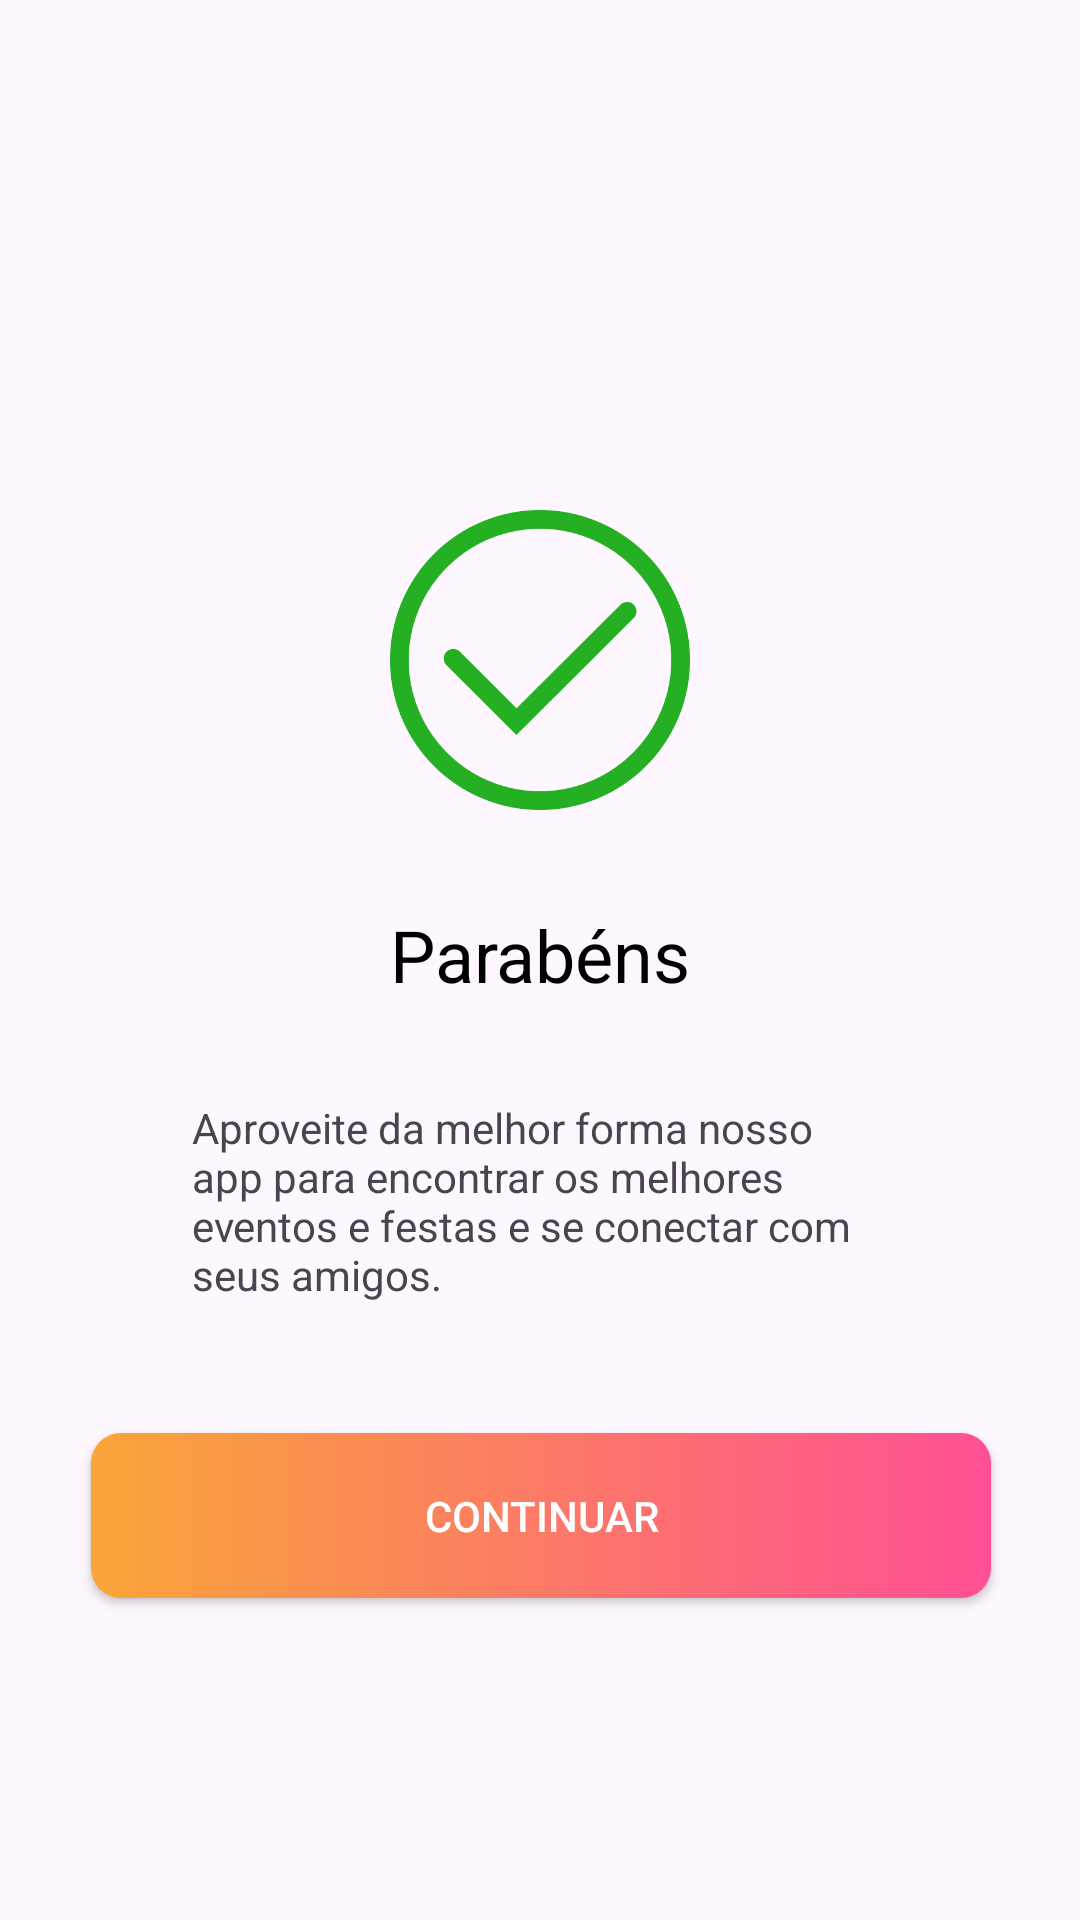

Icon bounding boxes for this 1080x1920 phone screenshot, format [left=x1, top=y1, right=x2, bottom=y2]:
success: [left=390, top=510, right=690, bottom=810]
